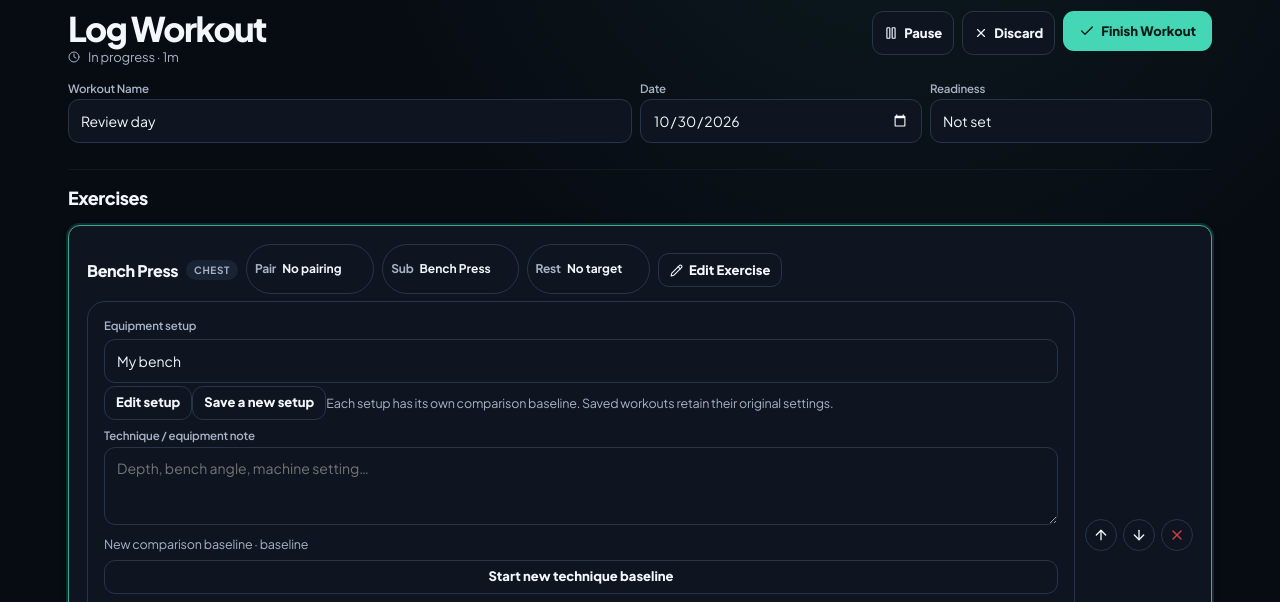
it: workout finish review › cancel, edit, and reopen never finish or alter skipped/warmup evidence
Click the button "Finish Workout". click: (1138, 31)
box: x1=1063 y1=11 x2=1212 y2=51
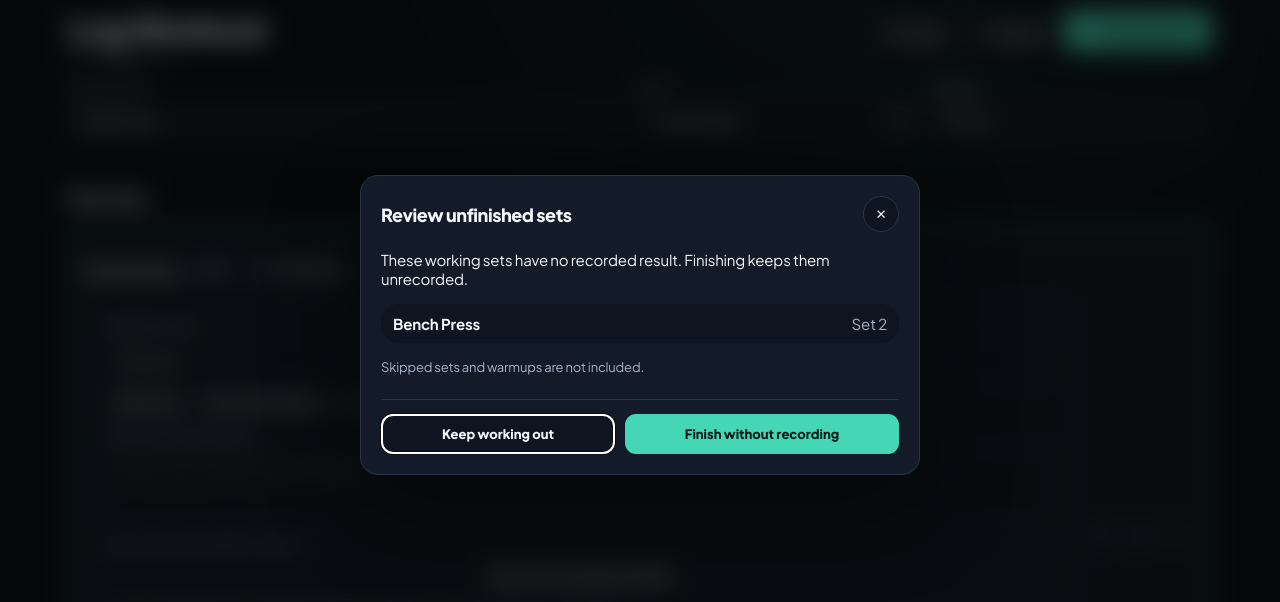
Expected: the text "Set 2" is shown, x1=852 y1=314 x2=887 y2=333
Click the button "Keep working out". click: (498, 434)
box: x1=381 y1=414 x2=615 y2=454
(page scrolled)
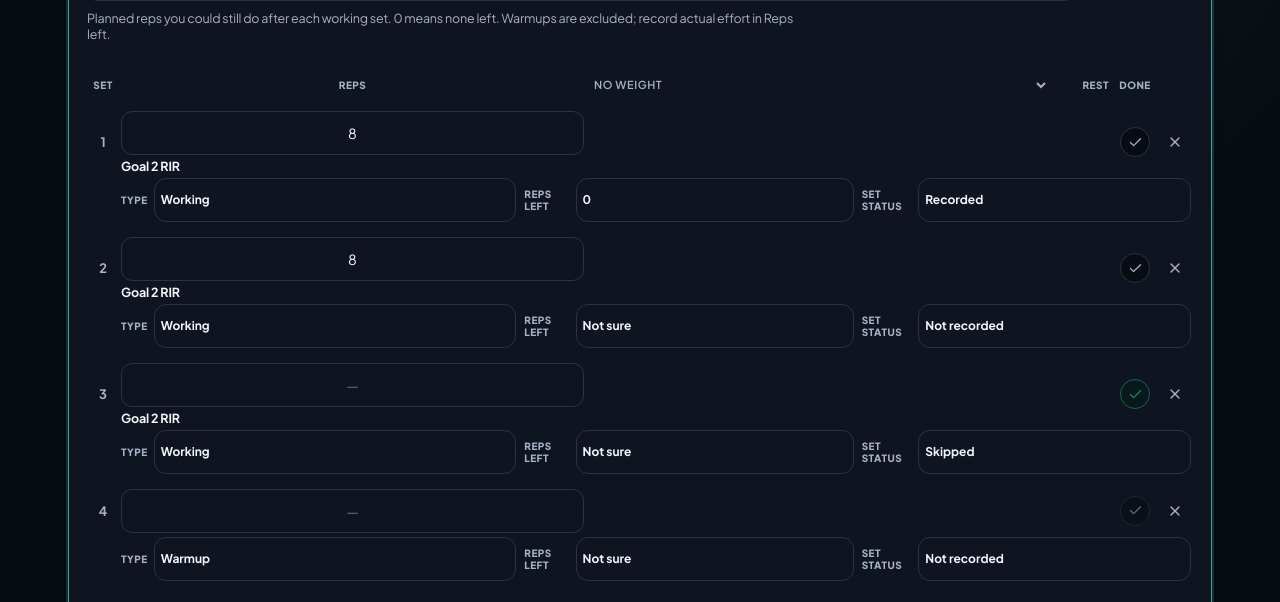
Select "Skipped" in the dropdown named "Status for set 2 of Bench Press". click: (1055, 326)
box: x1=918 y1=304 x2=1191 y2=348
(page scrolled)
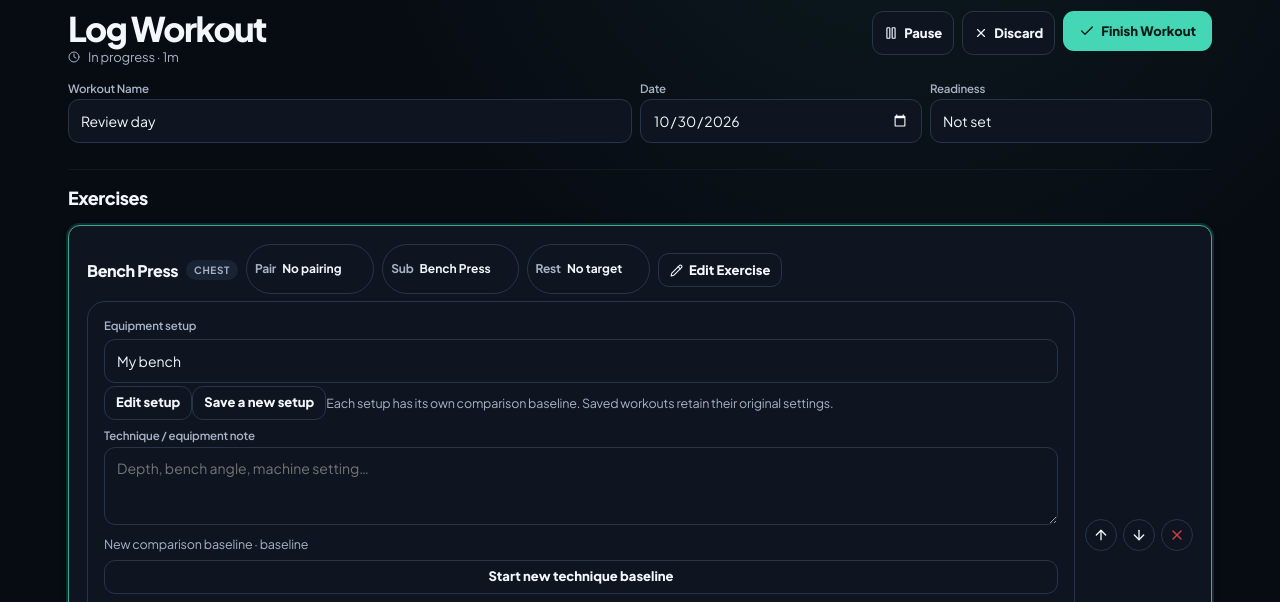
Click the button "Finish Workout". click: (1138, 31)
box: x1=1063 y1=11 x2=1212 y2=51
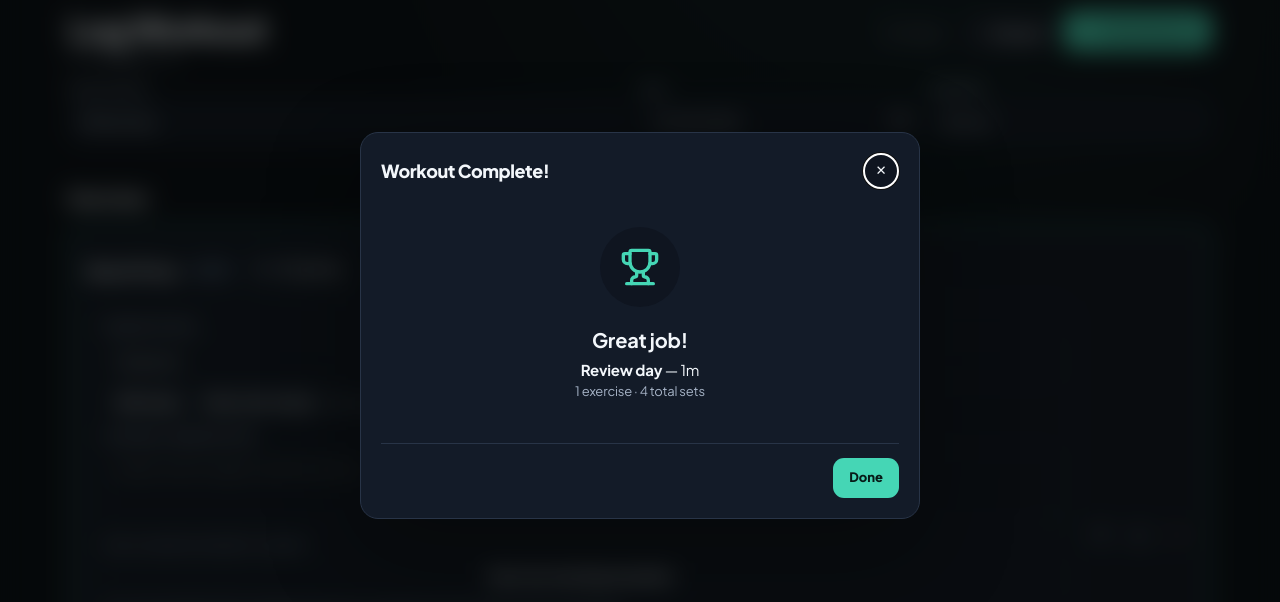
Expected: the dialog "Workout Complete!" is shown, x1=360 y1=132 x2=920 y2=518
